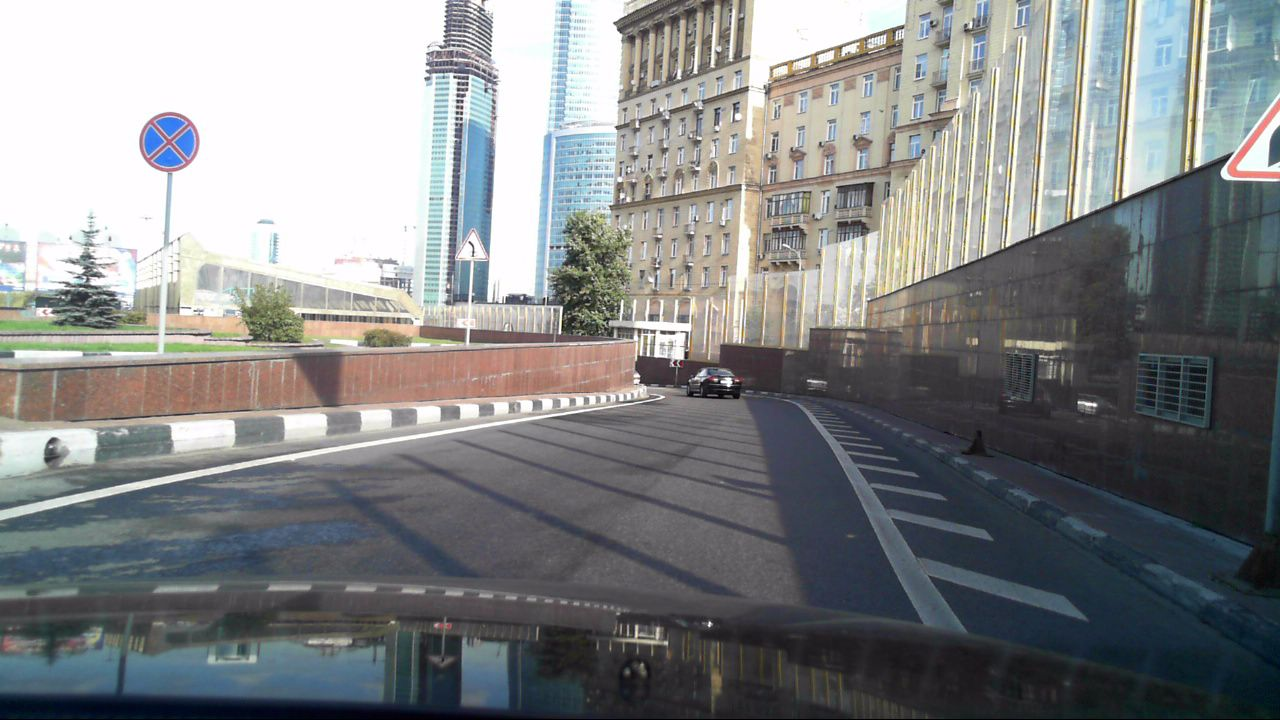No Parking: (137, 110, 203, 171)
